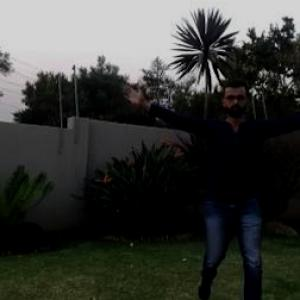takeoff: (121, 89, 299, 299)
